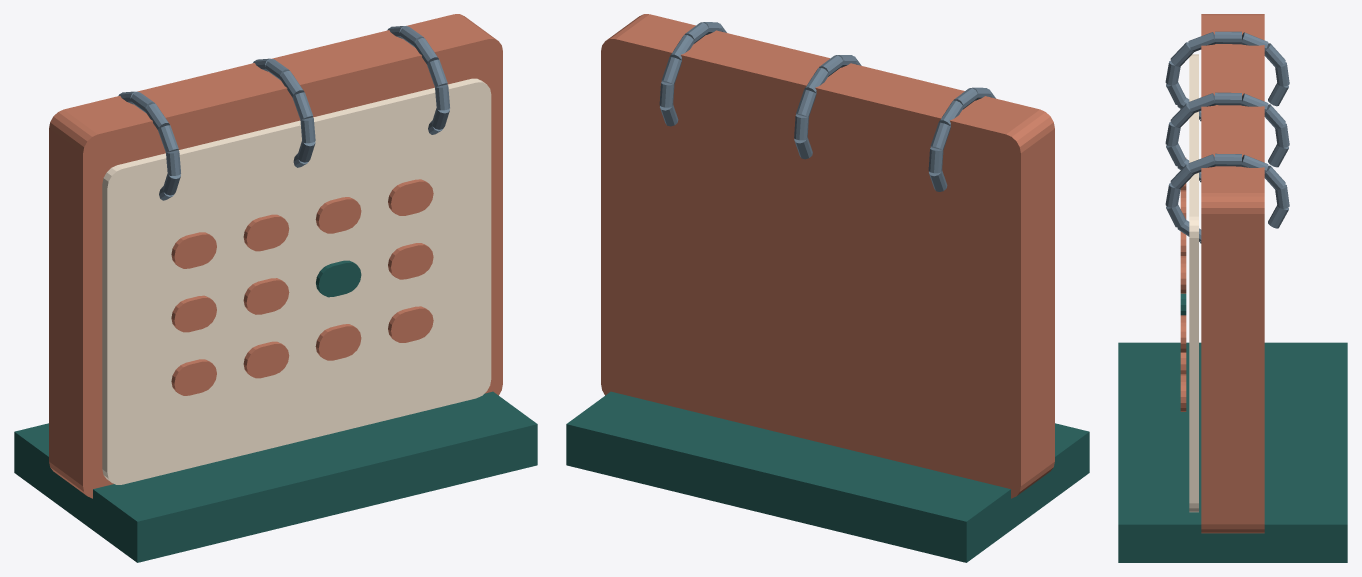
Rendered from deskcalendar.glb.
3 renders of one model, left to right at view 1: azimuth 30°, elevation 25°; view 2: azimuth 150°, elevation 25°; view 3: azimuth 270°, elevation 25°, orthographic. The views are drawn at different scales.
Parts seen in each view (by area): view 1: calendar page, binding board, rear foot, day 1, day 9, day 4, marked date, day 3, day 5, day 11, day 0, day 7 (+3 smaller); view 2: binding board, rear foot; view 3: rear foot, binding board, calendar page, loop16, loop06, loop26, loop15, loop25, loop05, loop04, loop14, loop24 (+3 smaller).
Part boxes in pixels (x1=…): calendar page: x1=102, y1=78, x2=491, y2=484; binding board: x1=49, y1=14, x2=502, y2=498; rear foot: x1=14, y1=391, x2=537, y2=562; day 1: x1=243, y1=214, x2=289, y2=251; day 9: x1=243, y1=341, x2=289, y2=378; day 4: x1=171, y1=295, x2=216, y2=332; marked date: x1=316, y1=260, x2=361, y2=297; day 3: x1=388, y1=179, x2=433, y2=215; day 5: x1=243, y1=278, x2=289, y2=314; day 11: x1=388, y1=306, x2=433, y2=342; day 0: x1=171, y1=232, x2=216, y2=268; day 7: x1=388, y1=243, x2=433, y2=279; binding board: x1=601, y1=14, x2=1054, y2=498; rear foot: x1=566, y1=391, x2=1089, y2=562; rear foot: x1=1118, y1=342, x2=1347, y2=562; binding board: x1=1201, y1=14, x2=1264, y2=533; calendar page: x1=1189, y1=54, x2=1198, y2=512; loop16: x1=1215, y1=92, x2=1241, y2=105; loop06: x1=1215, y1=31, x2=1241, y2=44; loop26: x1=1215, y1=153, x2=1241, y2=166; loop15: x1=1188, y1=93, x2=1215, y2=113; loop25: x1=1188, y1=154, x2=1215, y2=174; loop05: x1=1188, y1=32, x2=1215, y2=52; loop04: x1=1170, y1=42, x2=1193, y2=66; loop14: x1=1170, y1=103, x2=1193, y2=127; loop24: x1=1170, y1=164, x2=1193, y2=188.
Bounding box in the file's own units: 1.28 × 1.18 × 0.65.
